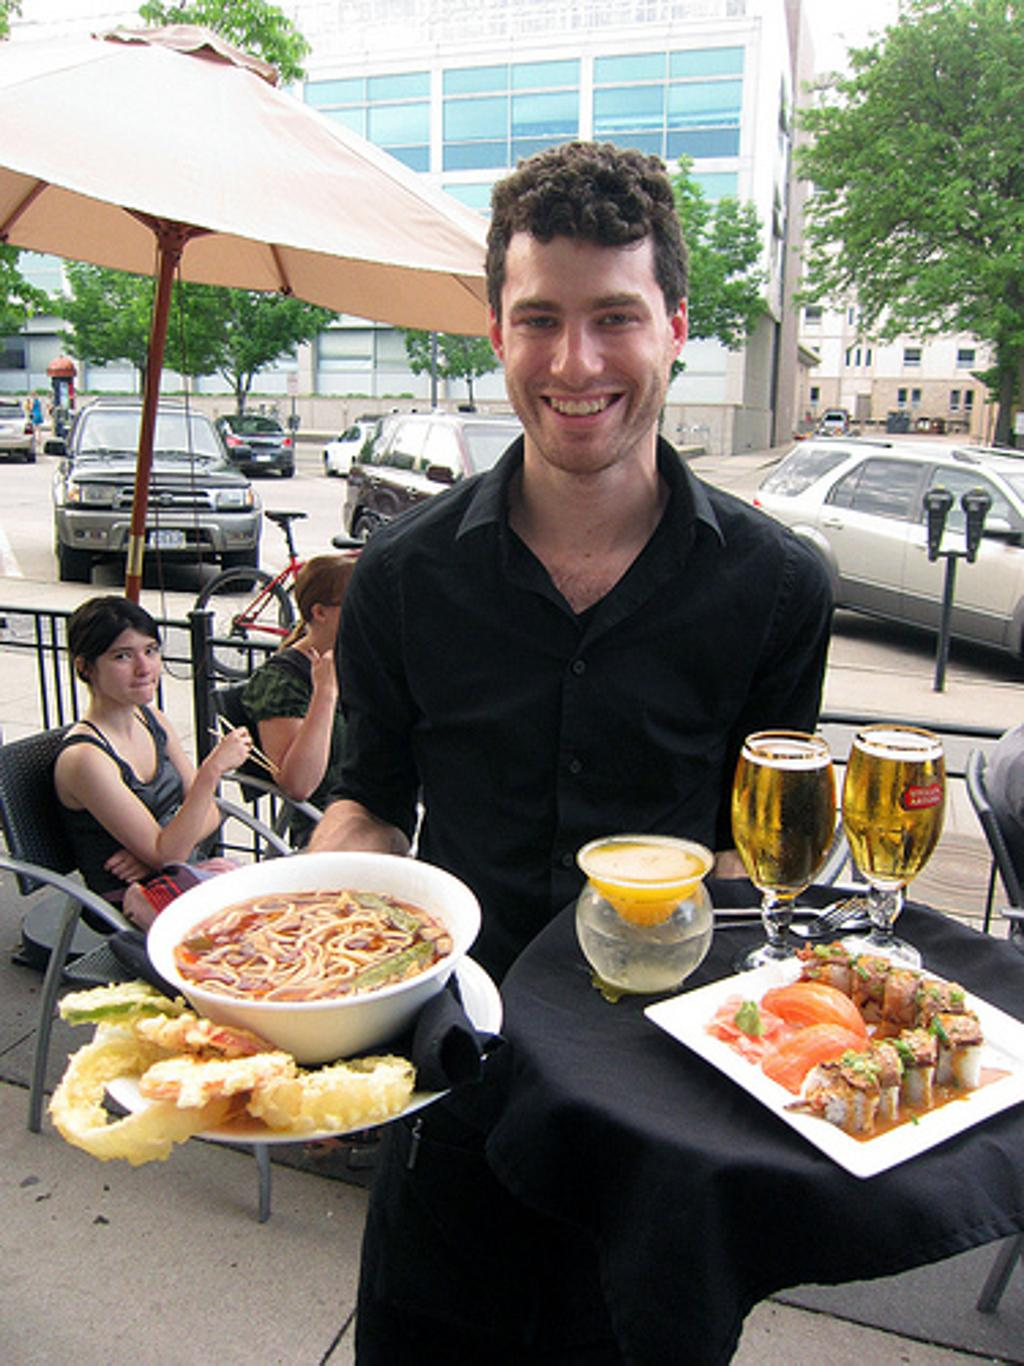face: (501, 227, 674, 472), (91, 619, 160, 710)
